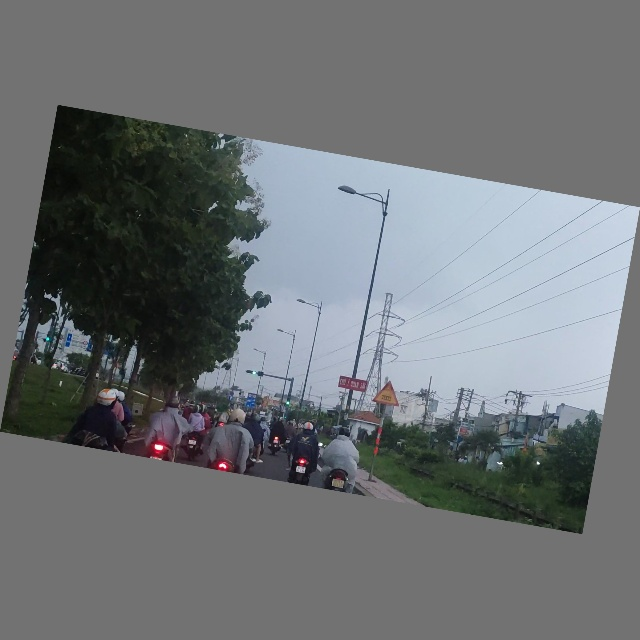W.210: (372, 379, 403, 408)
